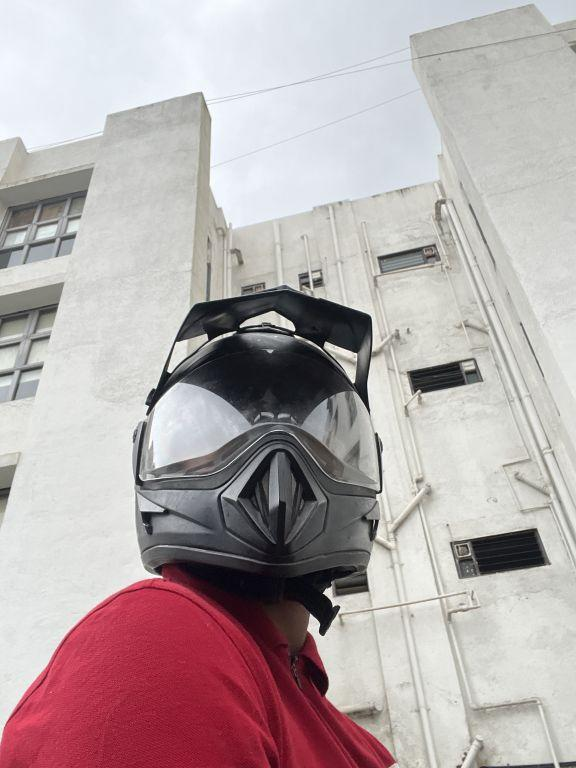helmet: (124, 274, 390, 625)
